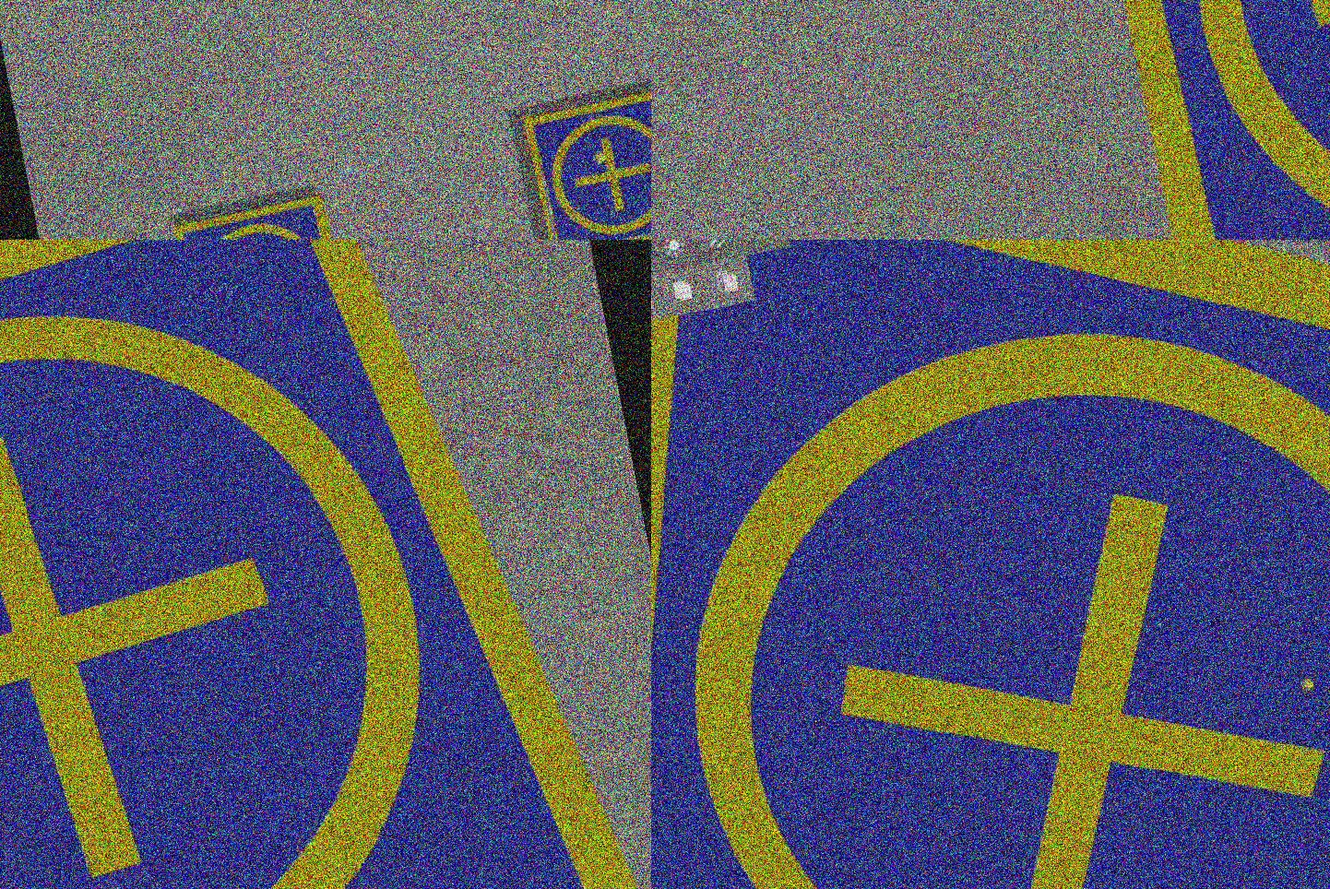small_base: (652, 240, 1330, 889), (1, 240, 652, 889), (1070, 1, 1330, 240), (523, 84, 652, 240), (172, 190, 355, 240)
